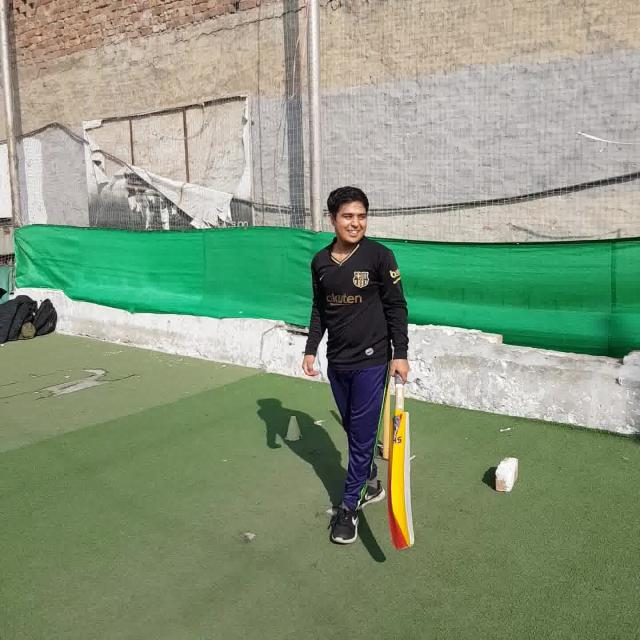bat: (387, 372, 416, 548)
